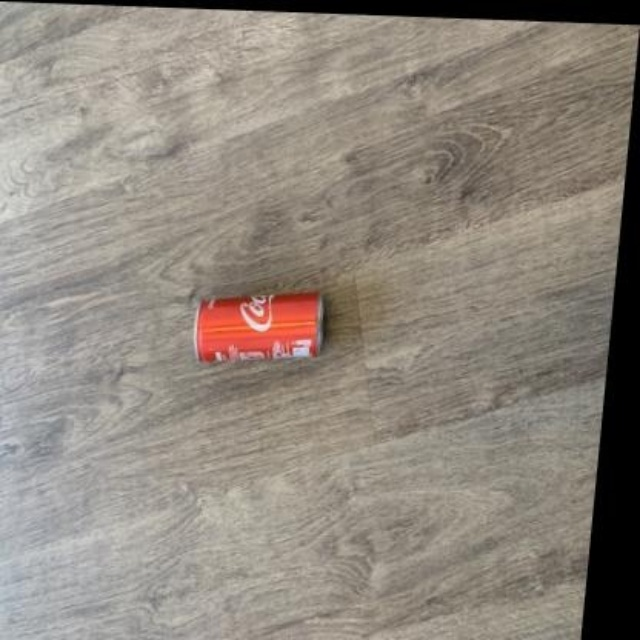trash: (195, 292, 322, 362)
